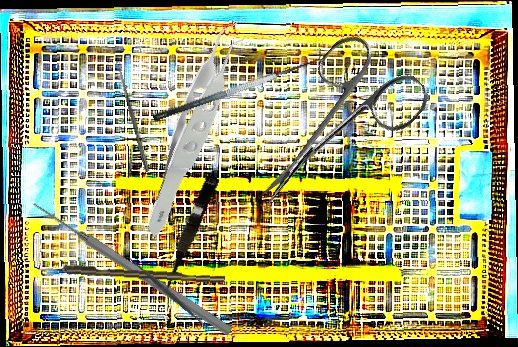Hook Surgical: (37, 262, 226, 285)
Iris Scissors: (223, 22, 436, 242)
Micro Scissor: (155, 173, 221, 294)
Pusher: (29, 197, 235, 338)
Spatula Surgical: (147, 44, 327, 123), (122, 250, 216, 336)
Surgical Spoon: (115, 60, 151, 173)
Tissue Forceps: (79, 10, 324, 238)
